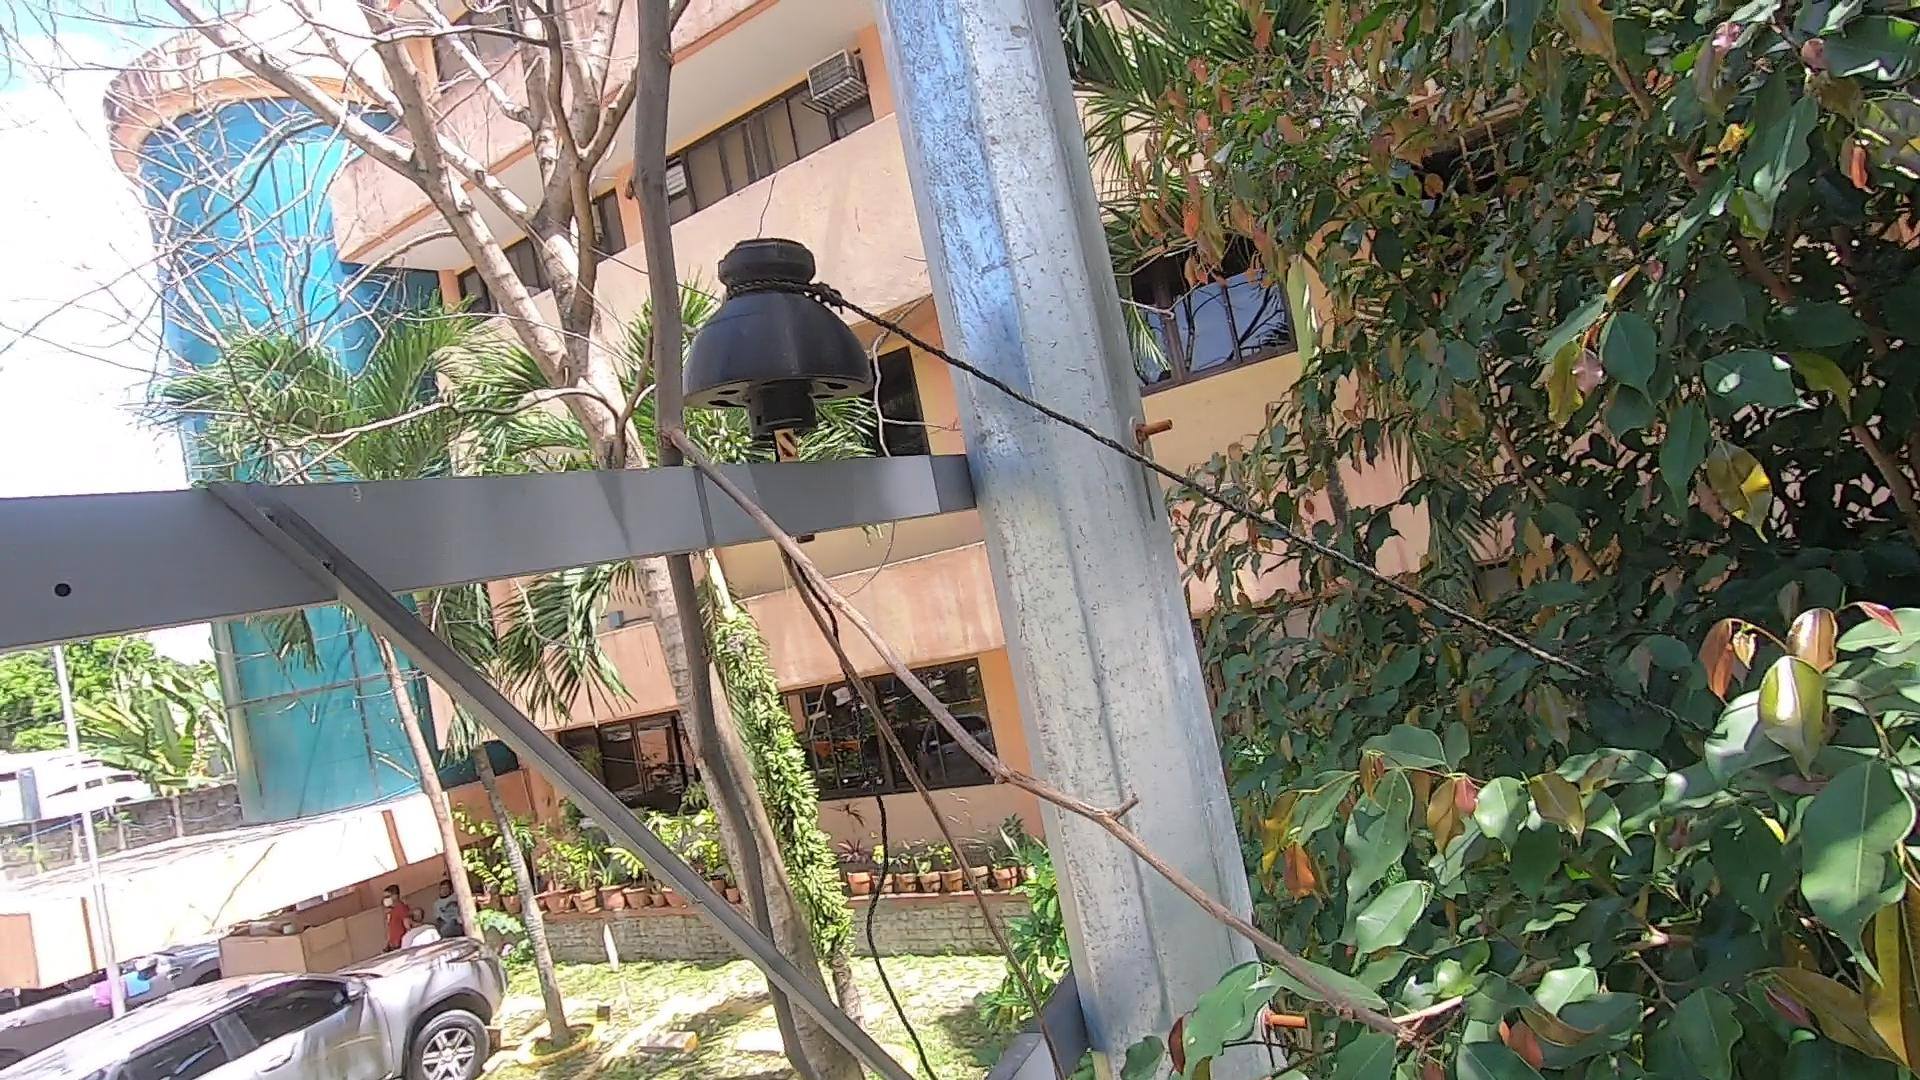tree branch: (554, 3, 1418, 1069)
